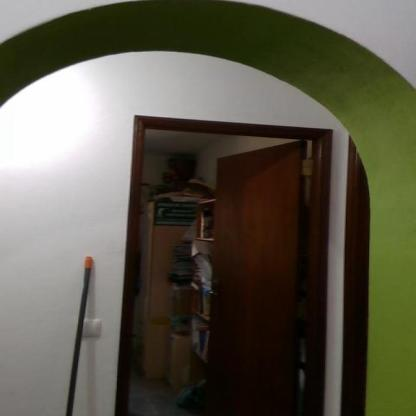door: (106, 99, 343, 415)
